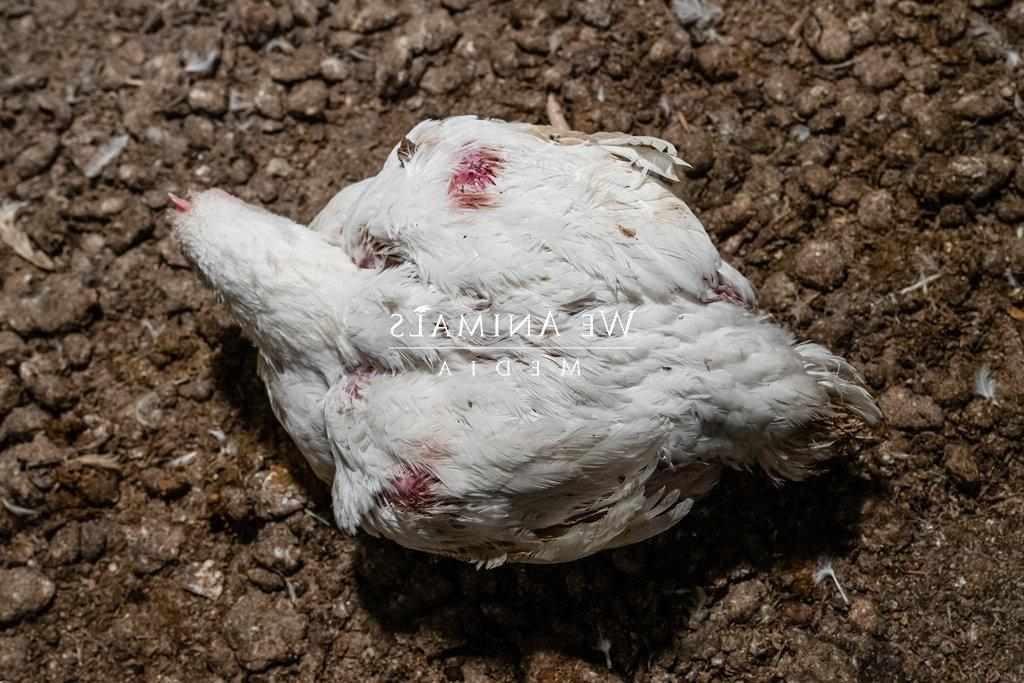AbNormal: (137, 107, 888, 575)
